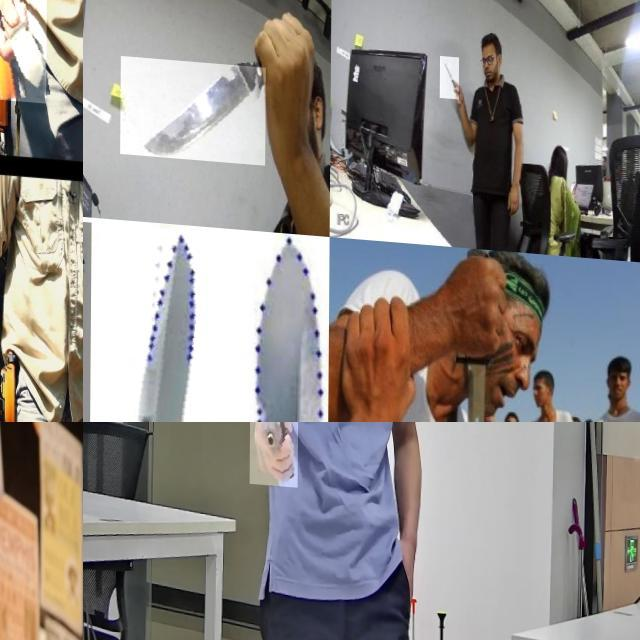-: (244, 225, 328, 422), (136, 224, 216, 422), (120, 55, 266, 162), (83, 216, 123, 422), (448, 299, 504, 422), (0, 0, 47, 100), (440, 48, 459, 92)
gun-knife-thesis - v11 Yolov5 augmented: (249, 422, 299, 488), (0, 573, 46, 640)
